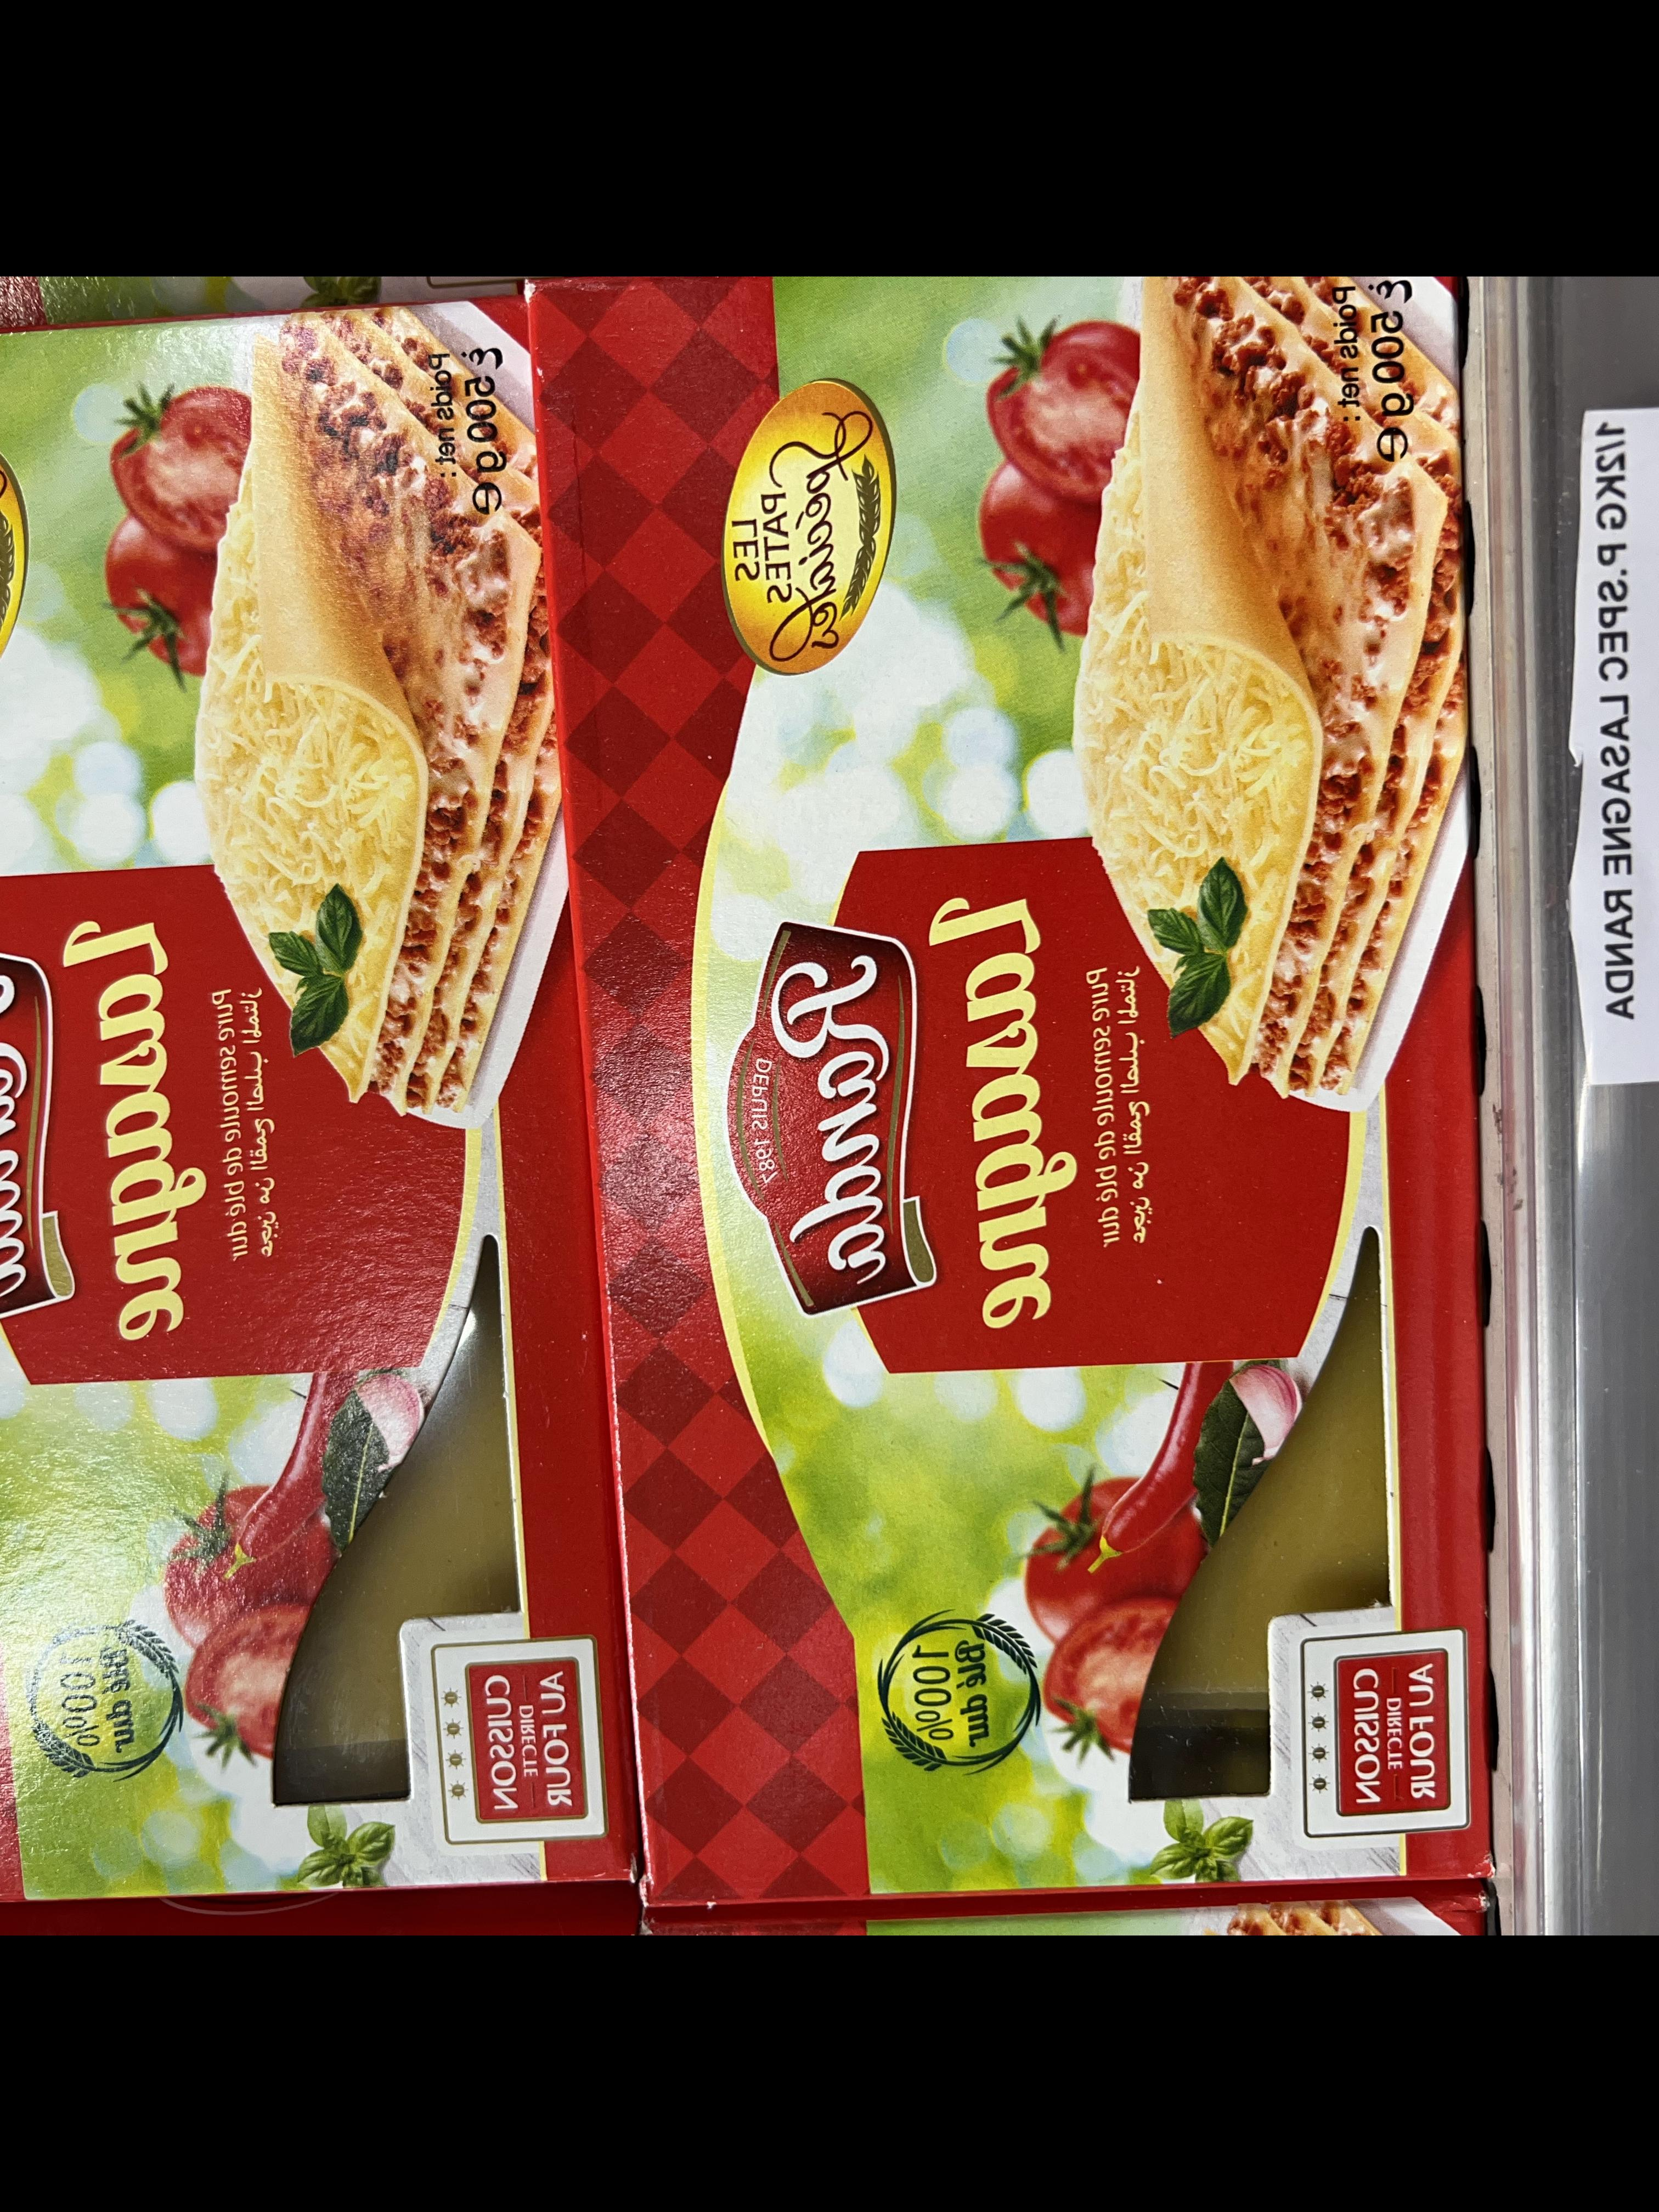lasagne: (150, 277, 566, 1104), (0, 289, 186, 1101)
